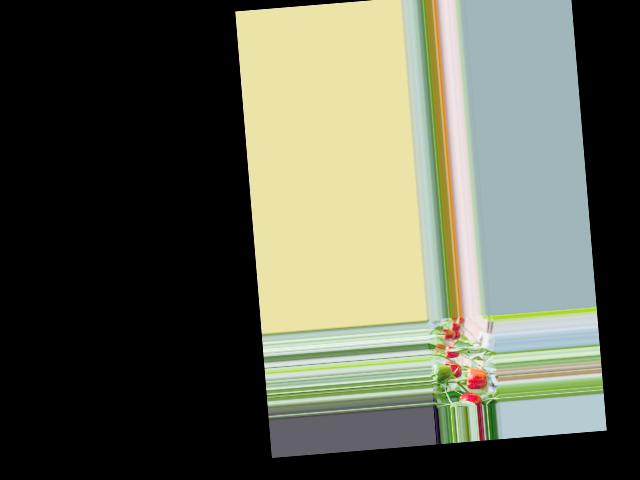bell_pepper: (440, 343, 463, 359)
